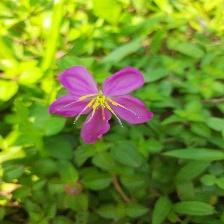malabar melastome: (49, 66, 155, 145)
